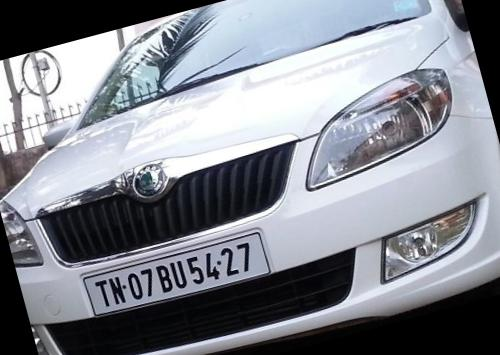plate: (73, 215, 293, 335)
